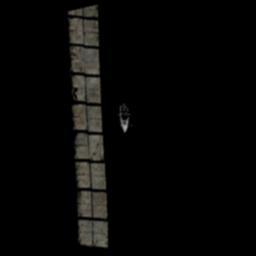boat: (114, 102, 134, 134)
